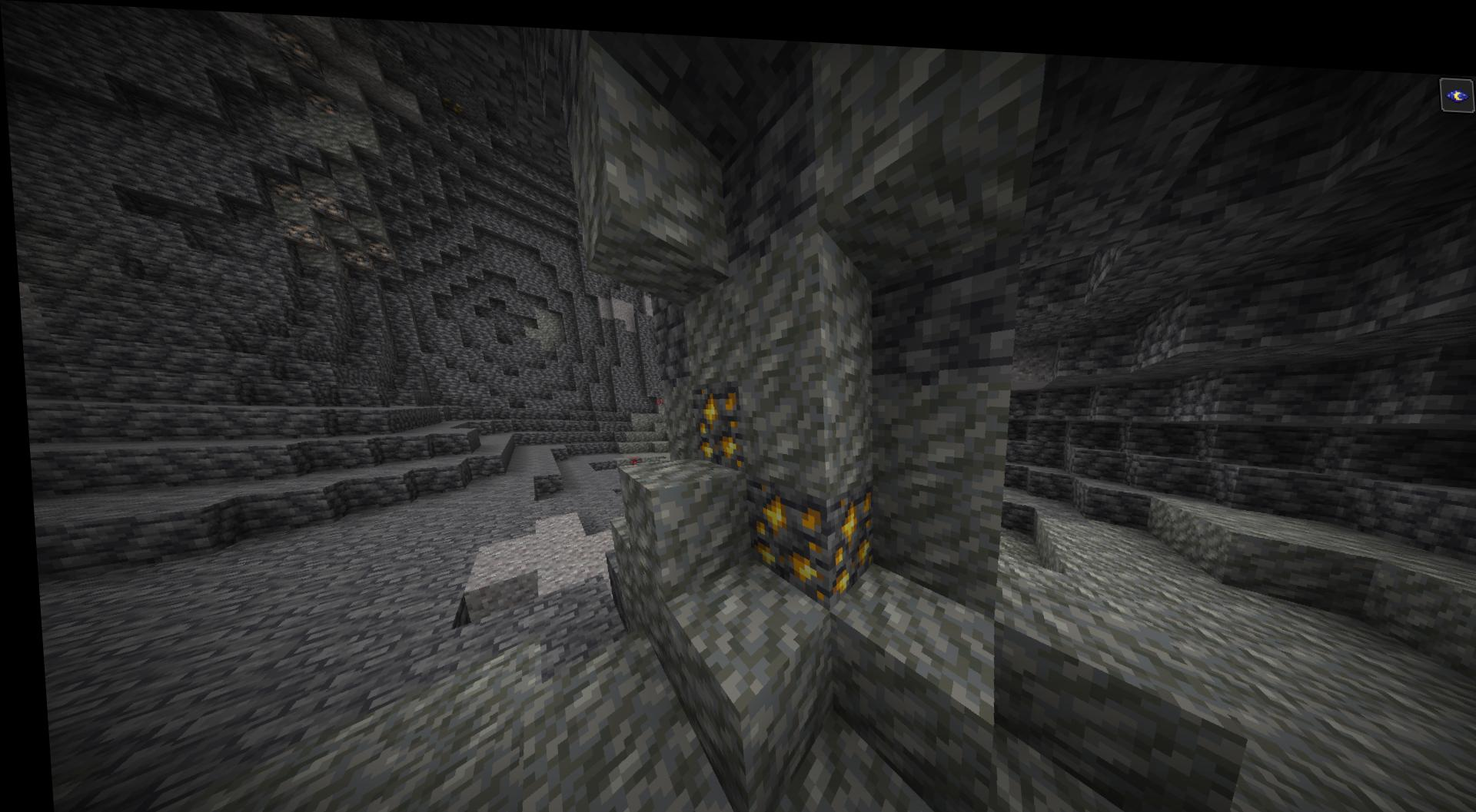gold ore: (737, 470, 820, 586), (815, 475, 875, 590), (690, 376, 735, 459)
iron ore: (272, 22, 317, 69), (271, 208, 316, 244), (267, 174, 308, 210), (310, 179, 341, 215), (337, 240, 368, 269), (357, 230, 391, 255)
